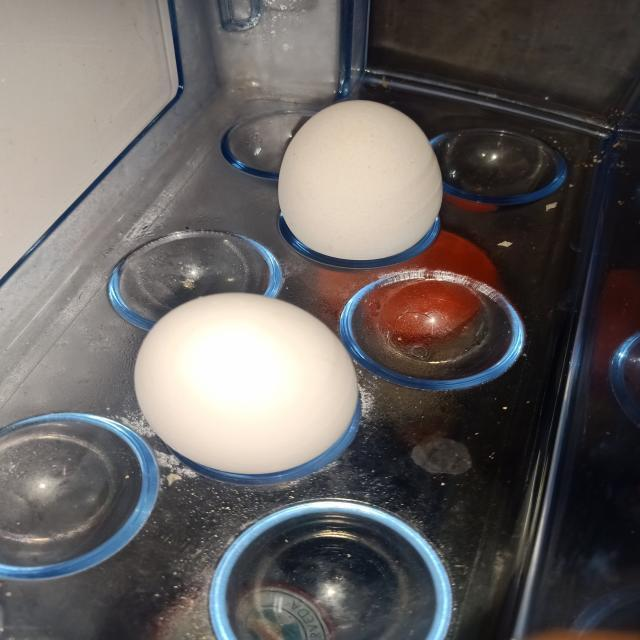Egg: (122, 282, 370, 505), (270, 80, 450, 272)
